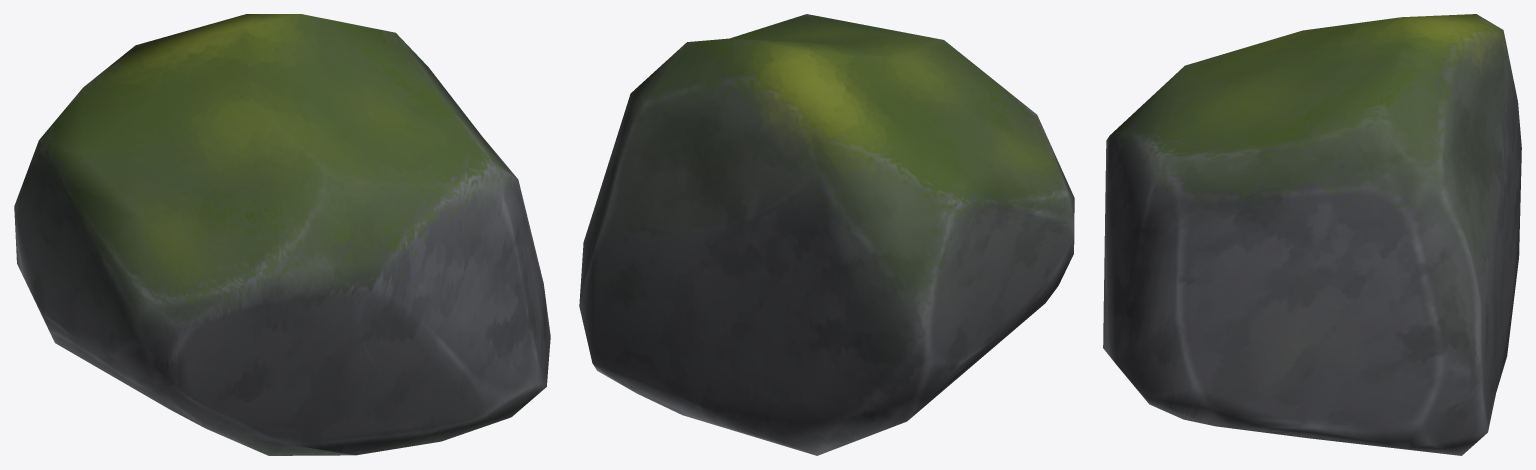
The model's file is Stone6_Moss2.fbx.
3 views of the same model, side by side, from view 1: azimuth 30°, elevation 25°; view 2: azimuth 150°, elevation 25°; view 3: azimuth 270°, elevation 25° (orthographic). The views are drawn at different scales.
Visible parts, largest first — view 1: Stone6_Moss2; view 2: Stone6_Moss2; view 3: Stone6_Moss2.
Boxes of the visible parts, <box> form: Stone6_Moss2: <box>14,14,550,455</box>; Stone6_Moss2: <box>579,14,1074,455</box>; Stone6_Moss2: <box>1103,14,1521,455</box>.
Size of the model in its own units: 200 by 171 by 178.
Materials: 1 (1 with a texture image).
